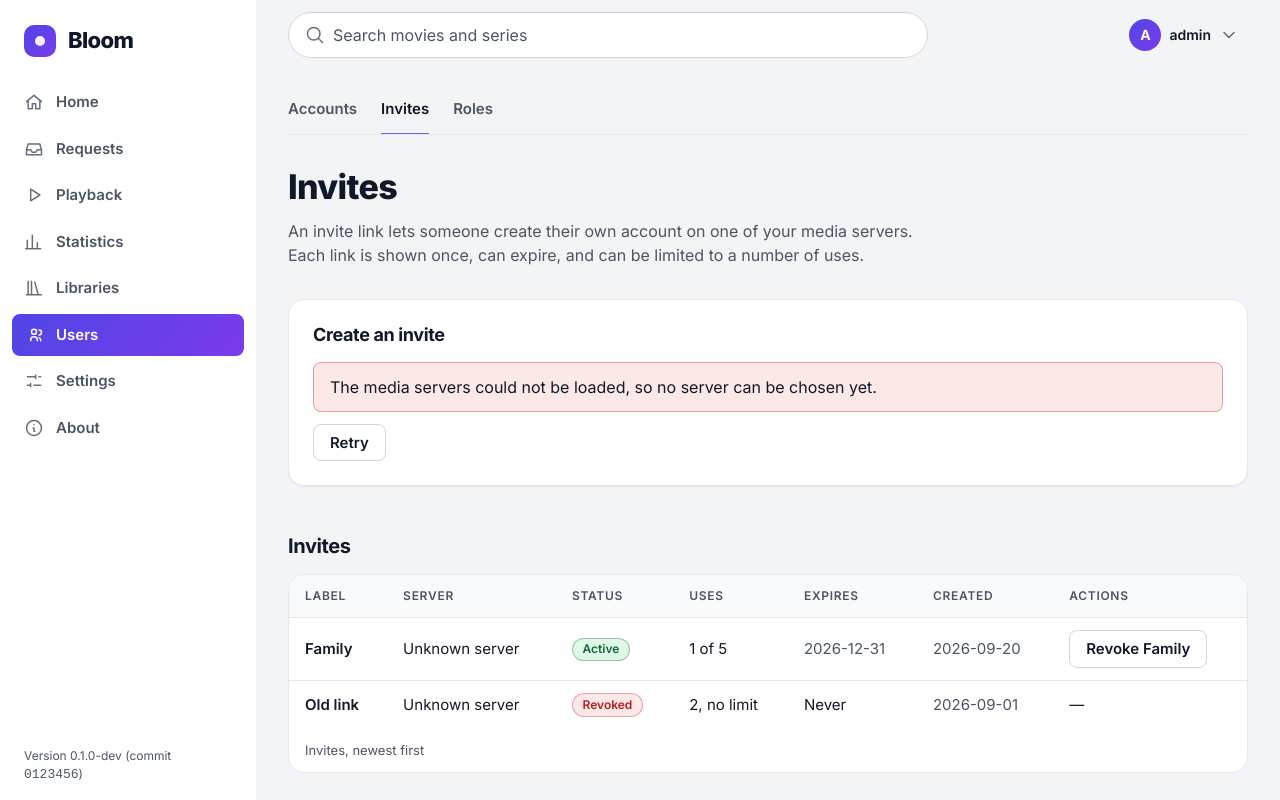
Test: offers a retry when the servers cannot be listed
expect the message shows "The media servers could not be loaded": met, box [330,377,877,397]
Click the button "Retry": [349, 443] box [313,424,386,462]
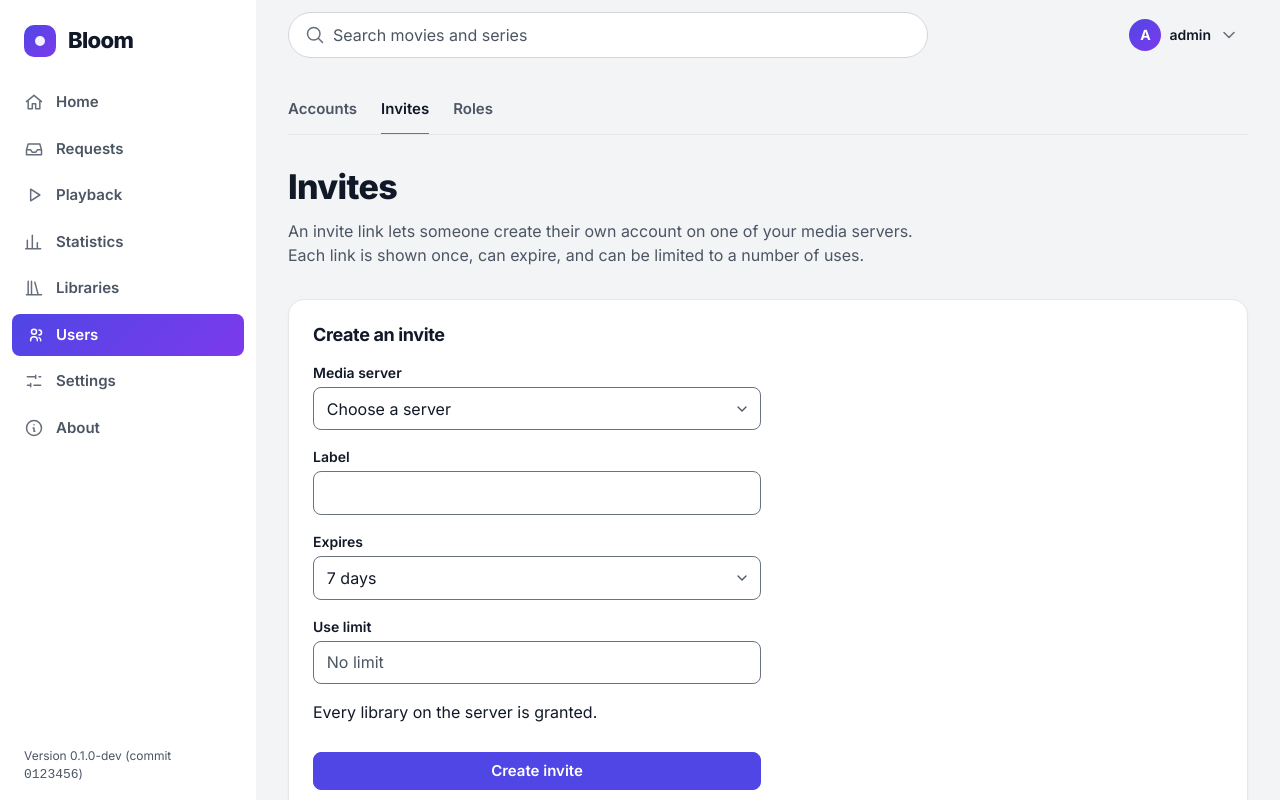
expect the dropdown labelled "Media server" is shown: met, box [313,387,761,430]
